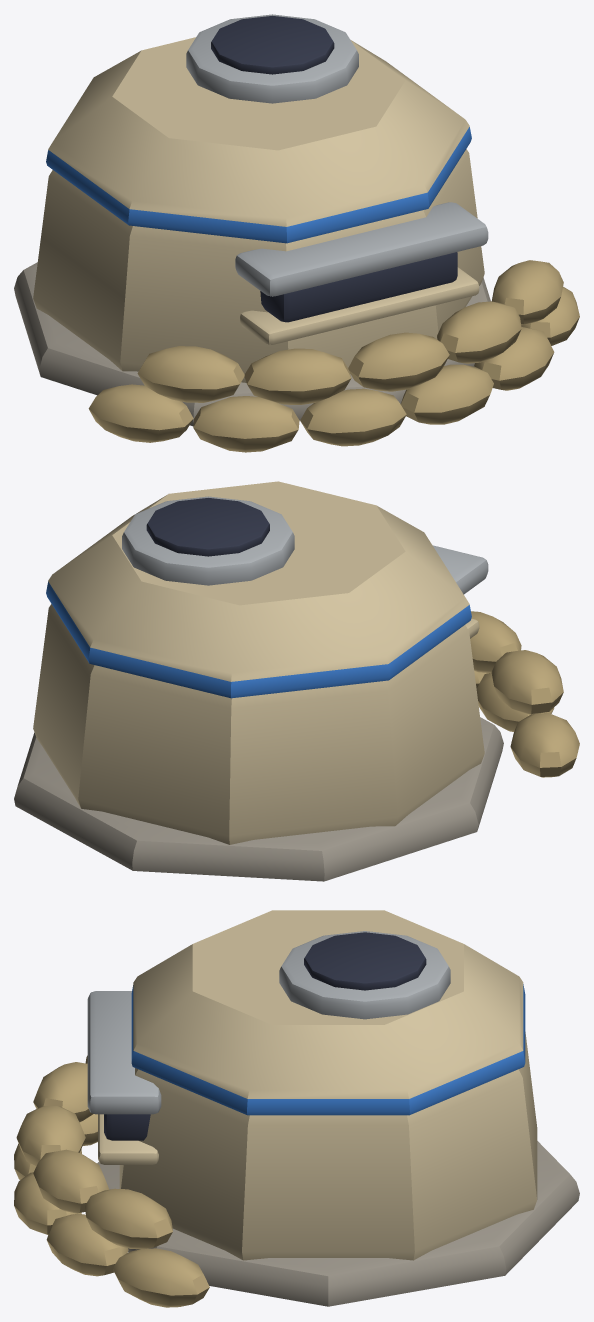
The model's file is Bunker.fbx.
The picture shows the model from 3 angles, top to bottom: view 1: azimuth 30°, elevation 25°; view 2: azimuth 150°, elevation 25°; view 3: azimuth 270°, elevation 25°; orthographic projection.
Parts seen in each view (by area): view 1: Bunker; view 2: Bunker; view 3: Bunker.
Boxes of the visible parts, <box> form: Bunker: <box>14,14,579,452</box>; Bunker: <box>14,481,579,881</box>; Bunker: <box>14,910,579,1307</box>.
Size of the model in its own units: 2.68 by 1.42 by 2.78.
